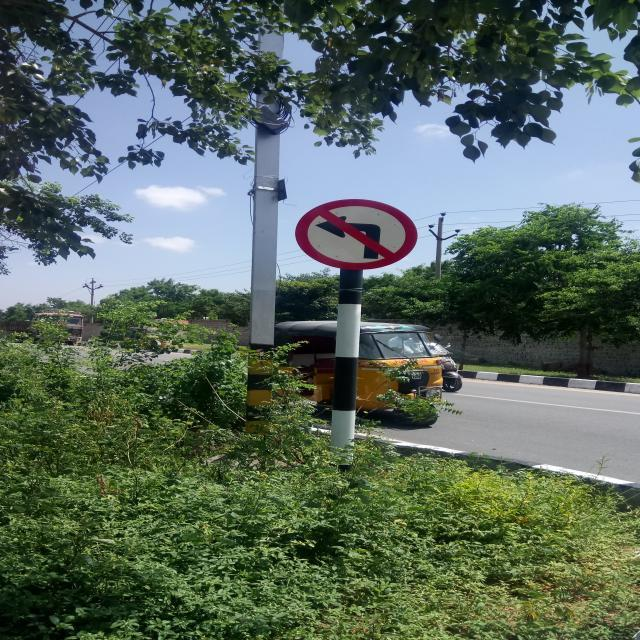left turn prohibited: (295, 199, 418, 270)
